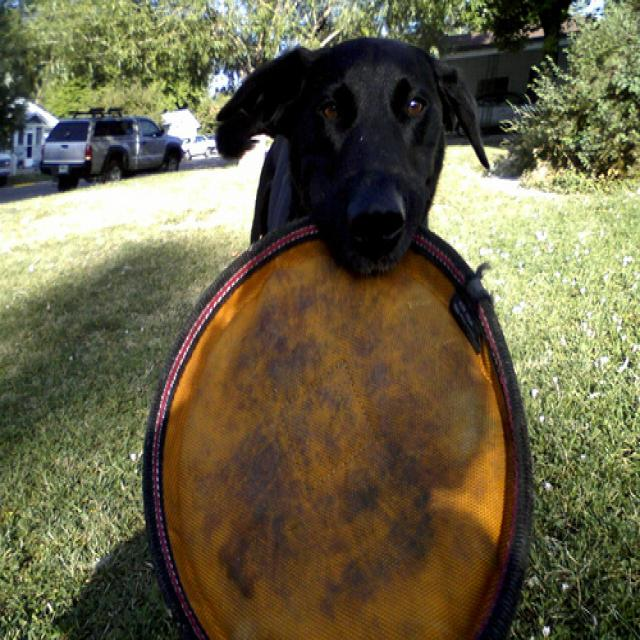Vehicle: (40, 107, 184, 190), (181, 135, 216, 163), (1, 153, 11, 186)
